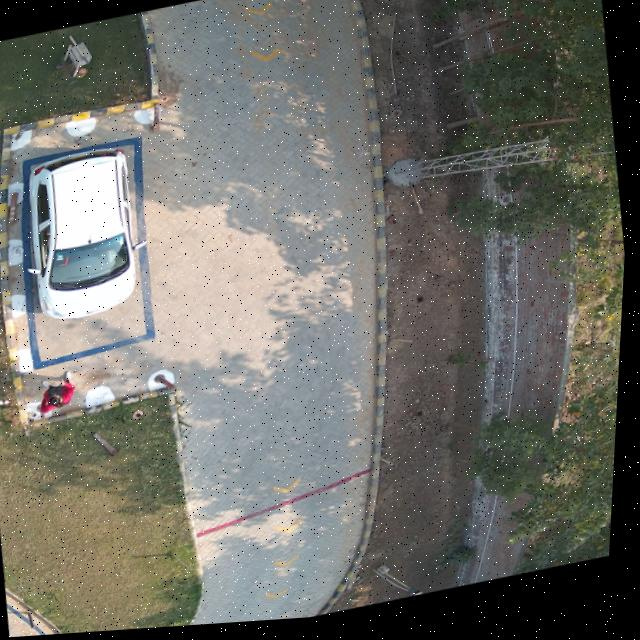car: (29, 151, 138, 321)
